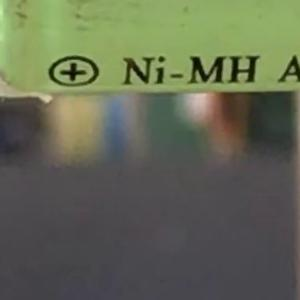NI-MH: (113, 46, 258, 95)
